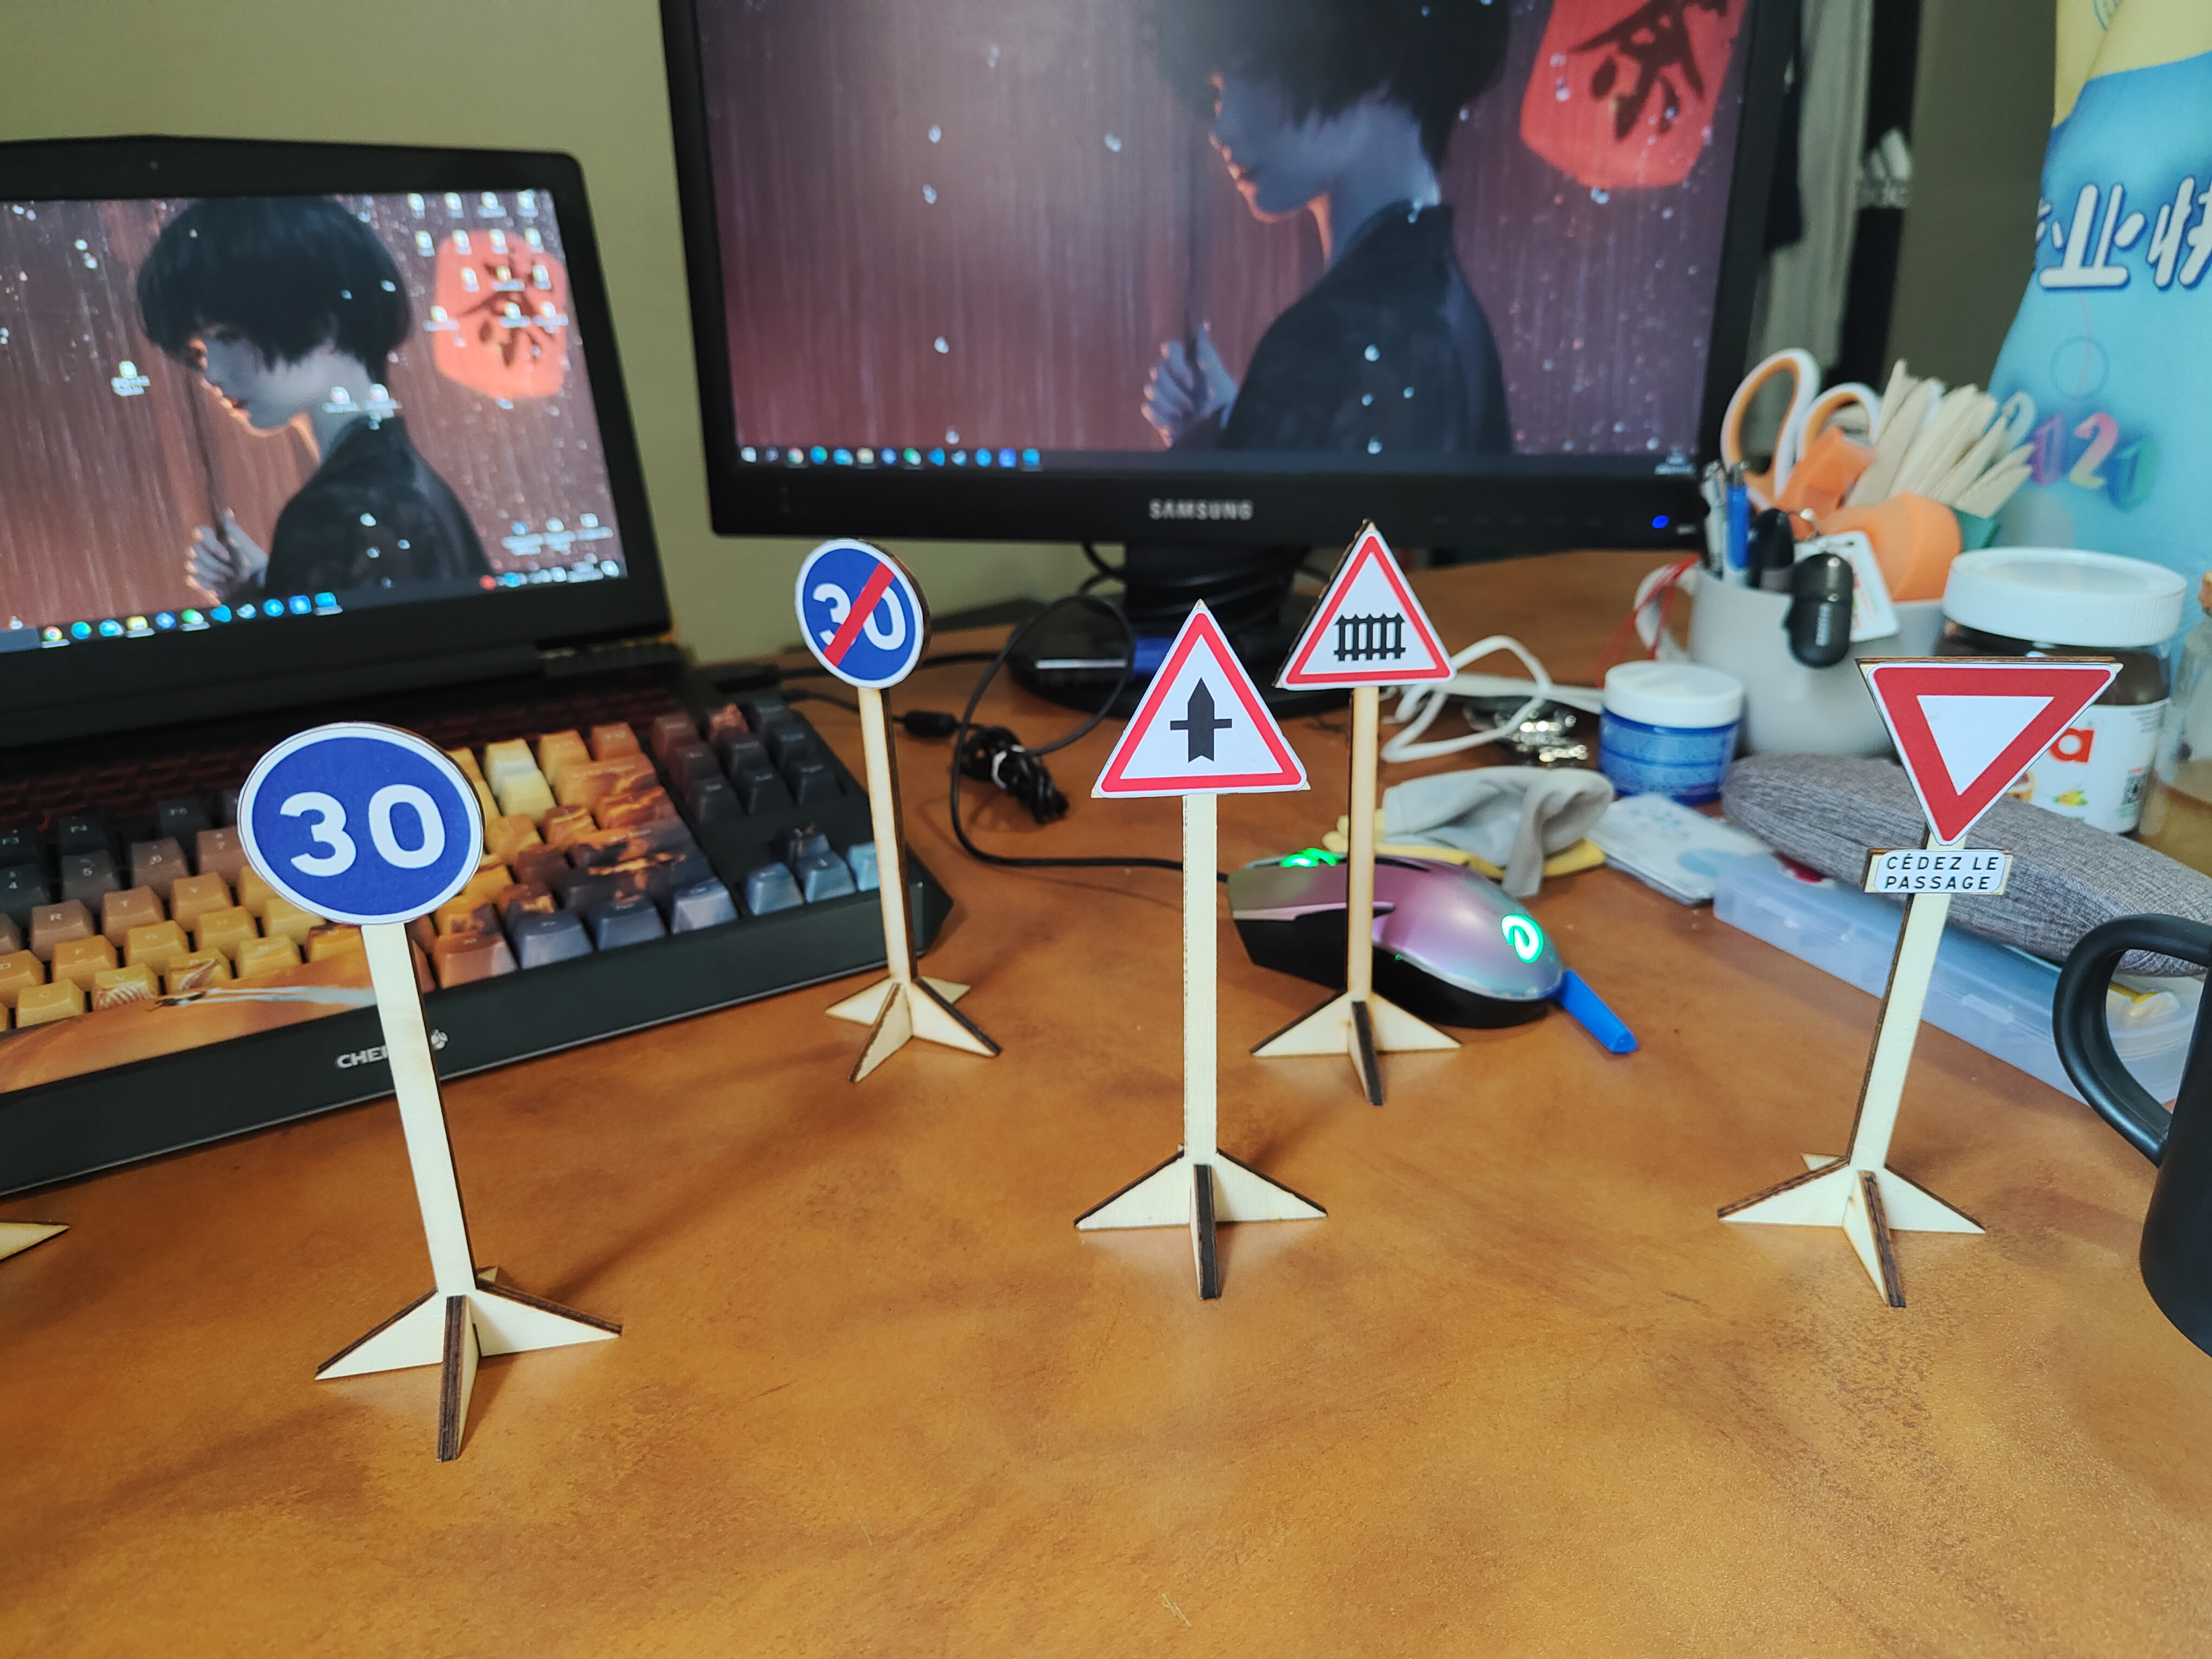ban: (792, 533, 927, 688)
first: (1094, 599, 1310, 796)
second: (1864, 641, 2097, 894)
thirty: (233, 725, 488, 925)
train: (1285, 519, 1453, 681)
